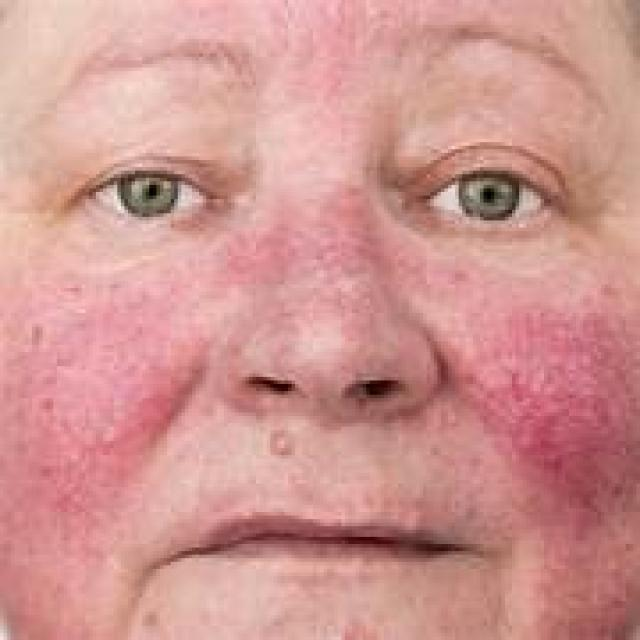Rosacea: (480, 322, 634, 512), (12, 303, 154, 492), (240, 225, 398, 290)
